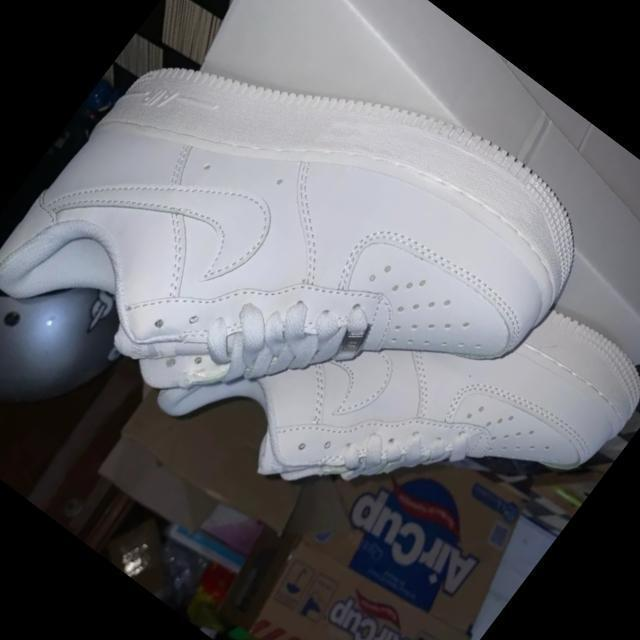nike fake air force: (0, 0, 614, 562), (191, 165, 640, 632)
